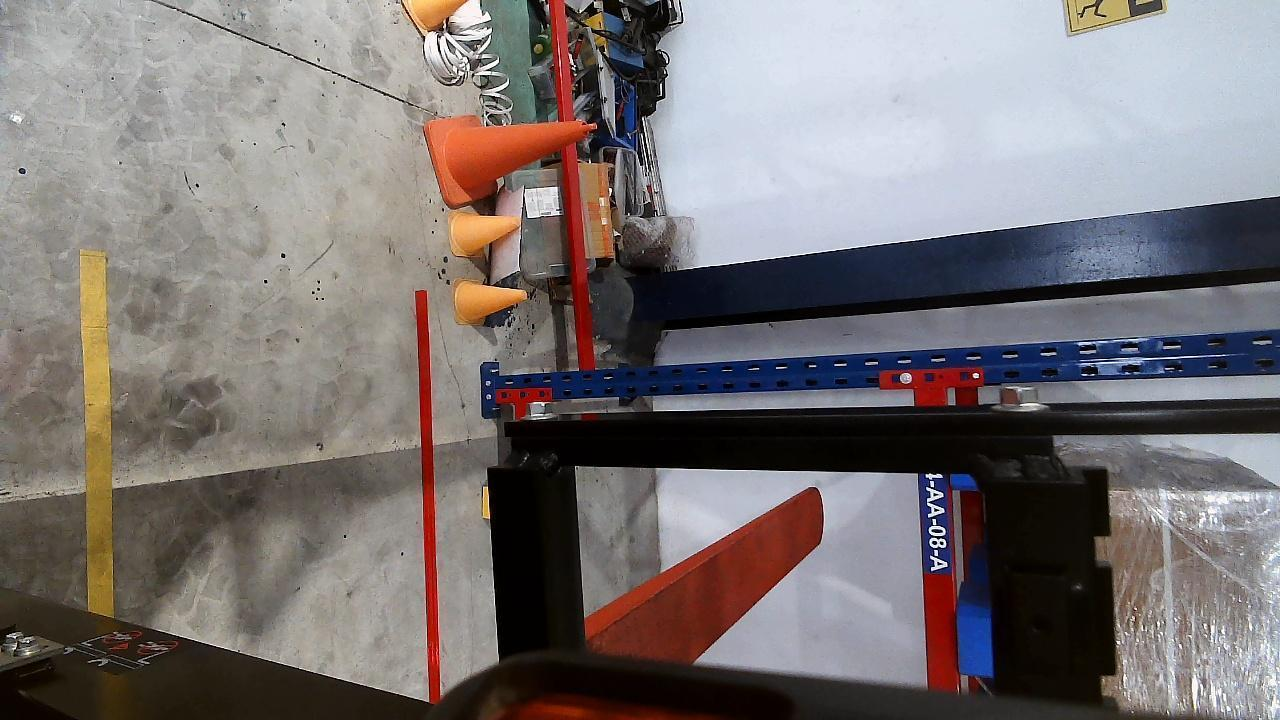red_line: (414, 291, 444, 704)
yellow_line: (80, 249, 113, 616)
